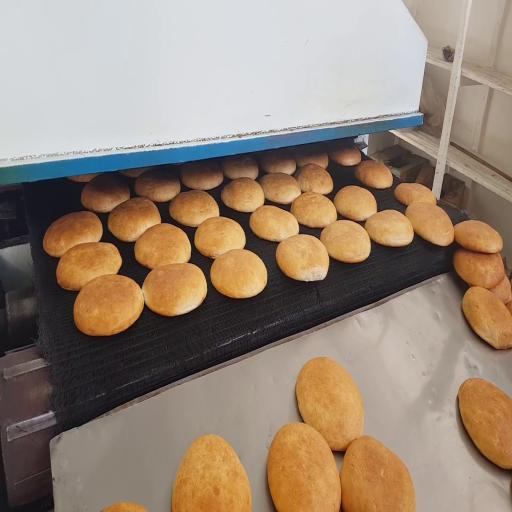bread: (267, 423, 341, 511), (296, 357, 363, 451), (172, 435, 251, 511), (341, 436, 415, 511), (459, 378, 511, 469), (74, 275, 143, 336), (142, 263, 206, 316), (56, 242, 122, 290), (462, 287, 511, 349), (211, 249, 267, 298), (43, 212, 102, 257), (135, 223, 191, 269), (276, 235, 329, 281), (108, 198, 161, 242), (406, 202, 454, 246), (321, 220, 370, 263), (195, 217, 245, 258), (454, 249, 505, 289), (81, 173, 130, 212), (169, 191, 219, 227), (365, 210, 413, 246), (250, 206, 299, 241), (291, 192, 337, 228), (455, 220, 502, 253), (135, 168, 180, 202), (334, 186, 377, 221), (221, 178, 264, 212), (259, 173, 301, 204), (181, 161, 223, 190), (295, 164, 333, 194), (355, 160, 393, 189), (395, 183, 436, 206), (260, 149, 296, 174), (221, 155, 258, 179), (292, 146, 328, 168), (329, 143, 361, 166), (491, 275, 511, 304), (119, 167, 152, 178), (102, 503, 147, 511), (68, 174, 98, 182), (506, 301, 511, 315)
